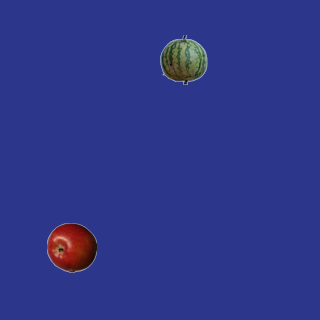Apple Braeburn: (46, 222, 96, 272)
Watermelon: (158, 34, 208, 84)
